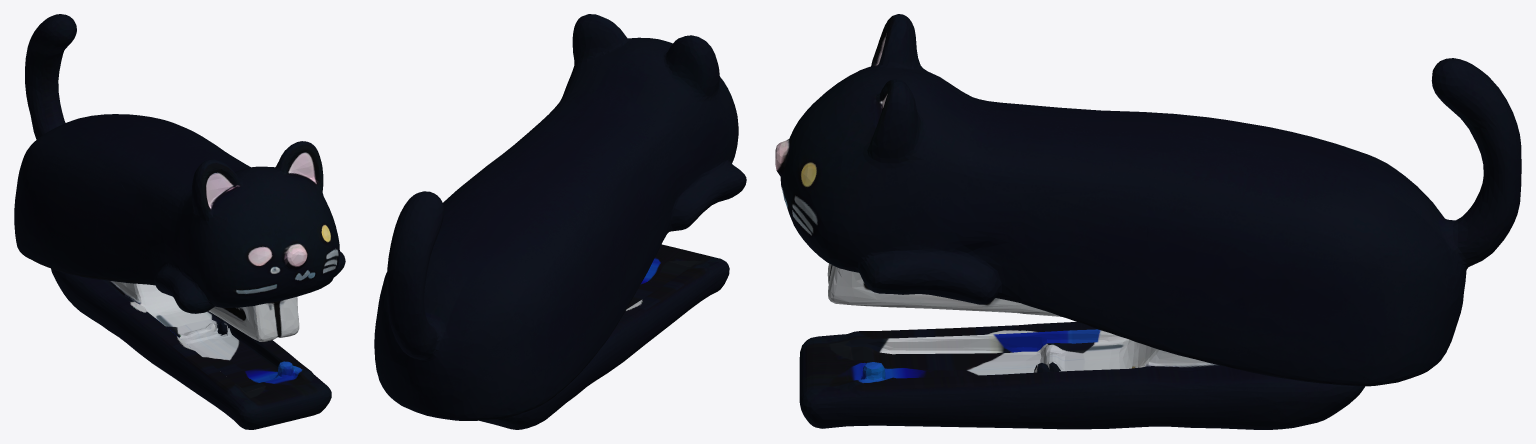
Rendered from stitcher_textured.obj.
The picture shows the model from 3 angles, left to right: view 1: azimuth 30°, elevation 25°; view 2: azimuth 150°, elevation 25°; view 3: azimuth 270°, elevation 25°; orthographic projection. The views are drawn at different scales.
Visible parts, largest first — view 1: stitcher_textured; view 2: stitcher_textured; view 3: stitcher_textured.
Part boxes in pixels (x1,y1,x2,y2): stitcher_textured: (14,14,345,429); stitcher_textured: (374,14,746,429); stitcher_textured: (775,14,1521,429).
Bounding box in the file's own units: 0.3674 × 0.5285 × 1.
1 material, 1 textured.
